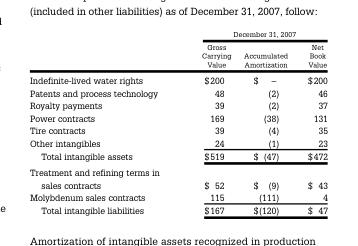table: (28, 29, 326, 214)
table column: (28, 29, 179, 214), (236, 29, 297, 214), (179, 29, 236, 214), (297, 29, 326, 214)
table column header: (28, 29, 326, 71)
table projected row header: (28, 163, 326, 178)
table row: (28, 39, 326, 71), (28, 163, 326, 178), (28, 71, 326, 85), (28, 149, 326, 163), (28, 85, 326, 98), (28, 98, 326, 111), (28, 123, 326, 136), (28, 136, 326, 149), (28, 190, 326, 203), (28, 111, 326, 123), (28, 178, 326, 190), (28, 203, 326, 214), (28, 29, 326, 39)
table spanning cell: (179, 29, 326, 39)
